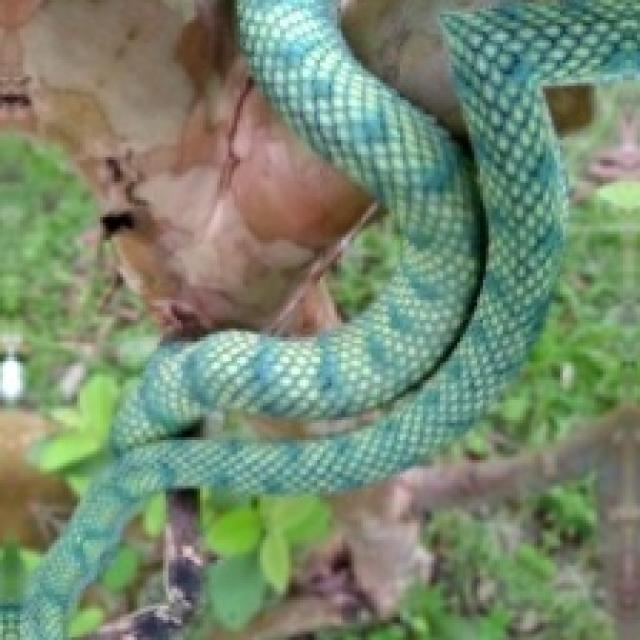north ph temple pitviper: (23, 0, 637, 637), (174, 403, 386, 443)
